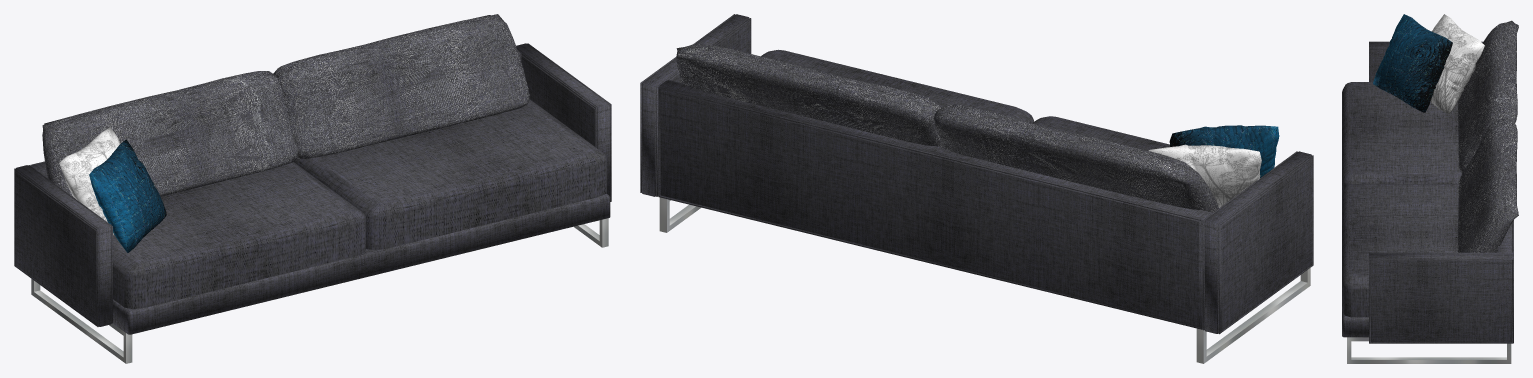
3 views of the same model, side by side, from view 1: azimuth 30°, elevation 25°; view 2: azimuth 150°, elevation 25°; view 3: azimuth 270°, elevation 25° (orthographic). The views are drawn at different scales.
Parts seen in each view (by area): view 1: _cushion_1 (×2), Component_86, Component_85, side (×2), bottom, cushion_1, cushion, Group_47 (×2); view 2: back, side (×2), Component_85, Component_86, _cushion_1 (×2), cushion, cushion_1, Group_47 (×3); view 3: _cushion_1 (×2), side (×2), Component_86, Component_85, cushion_1, cushion, Group_47 (×2), bottom, back.
Boxes of the visible parts, <box> form: _cushion_1 (×2): <box>113,99,607,309</box>; Component_86: <box>273,14,529,159</box>; Component_85: <box>42,71,297,197</box>; side (×2): <box>14,43,611,326</box>; bottom: <box>113,193,610,334</box>; cushion_1: <box>89,139,166,252</box>; cushion: <box>59,127,120,235</box>; Group_47 (×2): <box>31,279,132,363</box>; back: <box>658,80,1211,329</box>; side (×2): <box>640,14,1313,334</box>; Component_85: <box>934,104,1218,213</box>; Component_86: <box>676,44,941,146</box>; _cushion_1 (×2): <box>761,49,1169,150</box>; cushion: <box>1148,144,1261,207</box>; cushion_1: <box>1169,125,1279,177</box>; Group_47 (×3): <box>659,197,1310,363</box>; _cushion_1 (×2): <box>1342,82,1497,317</box>; side (×2): <box>1369,41,1513,343</box>; Component_86: <box>1457,118,1518,252</box>; Component_85: <box>1457,20,1518,173</box>; cushion_1: <box>1373,14,1452,112</box>; cushion: <box>1430,14,1484,113</box>; Group_47 (×2): <box>1347,337,1511,363</box>; bottom: <box>1342,311,1368,337</box>; back: <box>1498,220,1513,252</box>.
Bounding box in the file's own units: 96 × 32.92 × 30.42.
6 materials, 6 textured.
